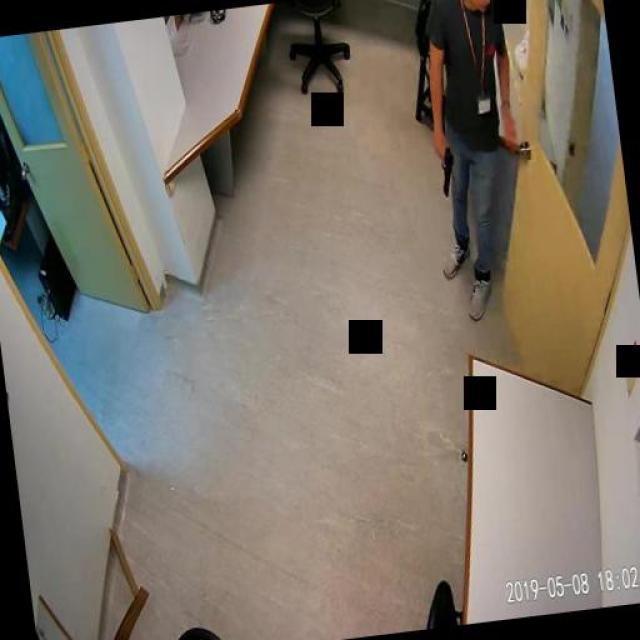gun: (435, 138, 457, 196)
